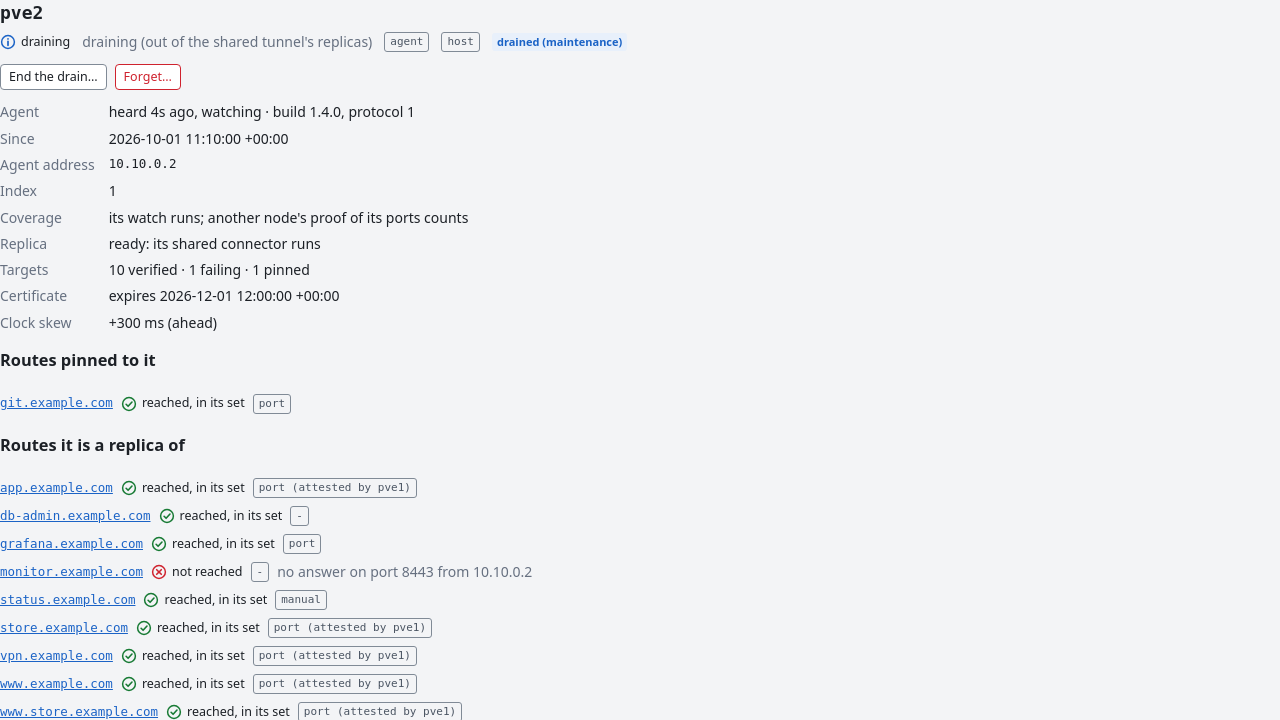
draining and forgetting › a drain of maintenance mode is ended in Proxmox, not here
Click the button "End the drain…": (53,77) [0,64,107,90]
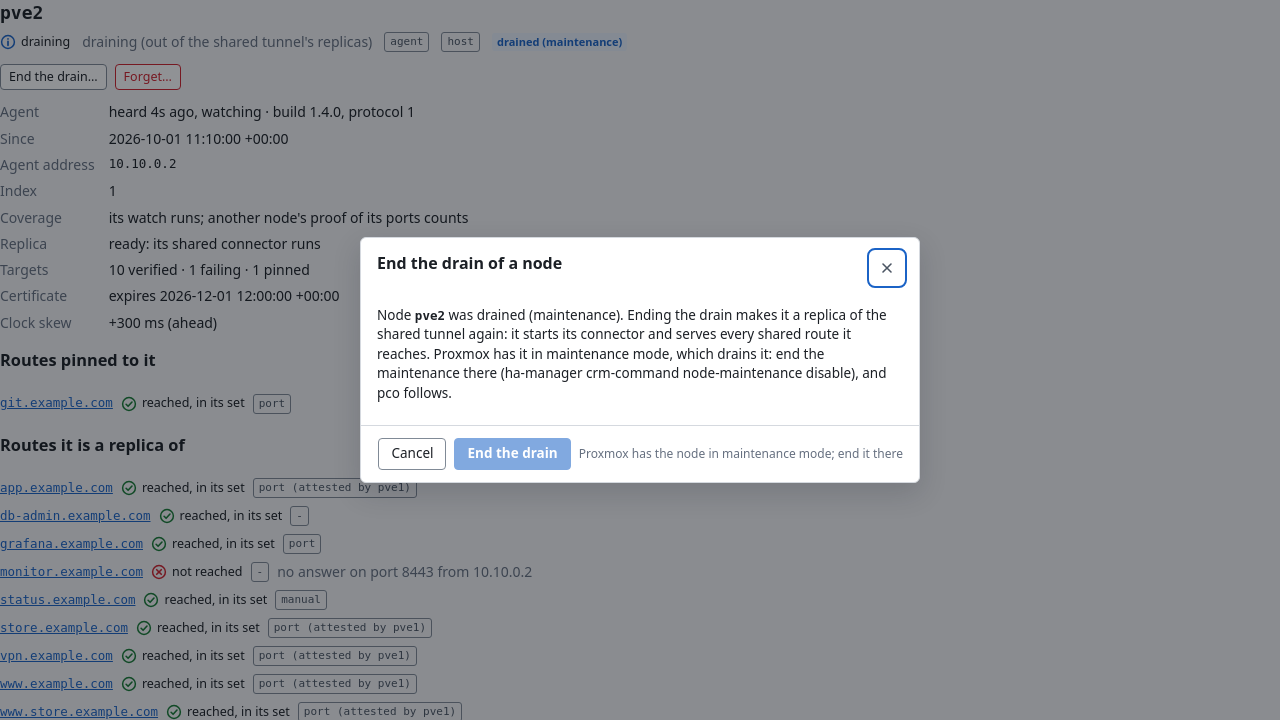
Expected: the dialog shows "ha-manager crm-command node-maintenance disable", [377,345,886,402]
